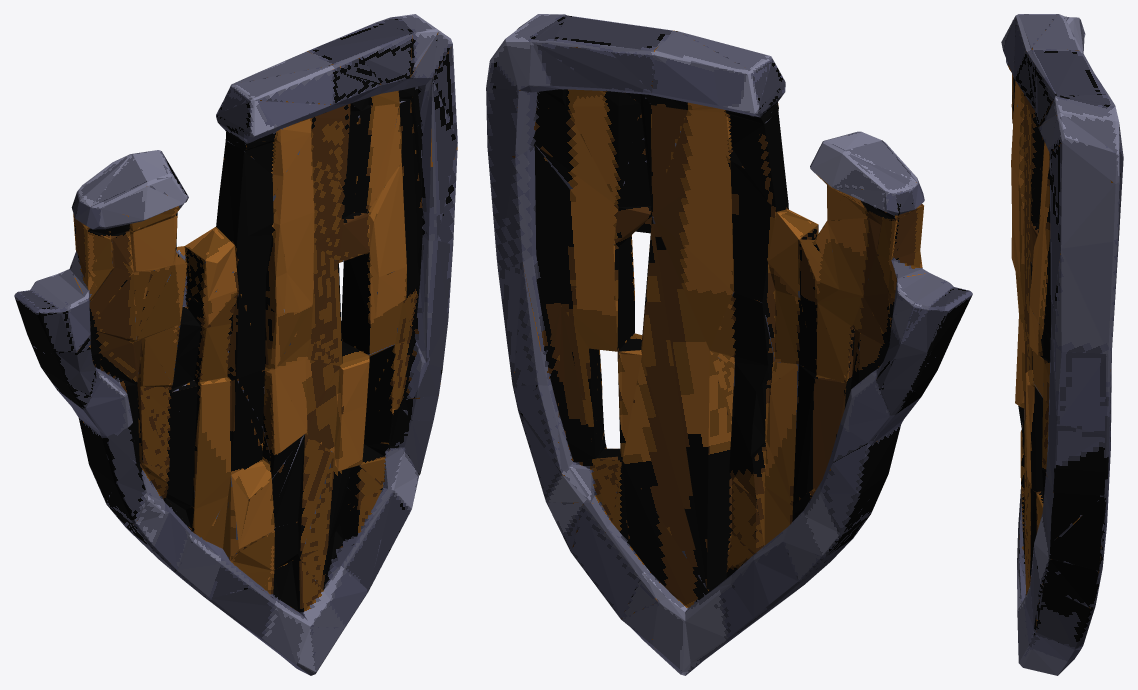
The picture shows the model from 3 angles, left to right: view 1: azimuth 30°, elevation 25°; view 2: azimuth 150°, elevation 25°; view 3: azimuth 270°, elevation 25°; orthographic projection. The views are drawn at different scales.
Parts seen in each view (by area): view 1: OBJ0cb; view 2: OBJ0cb; view 3: OBJ0cb.
Boxes of the visible parts, <box> form: OBJ0cb: <box>14,14,457,675</box>; OBJ0cb: <box>486,14,972,675</box>; OBJ0cb: <box>1001,14,1123,675</box>.
Size of the model in its own units: 0.2764 by 0.3704 by 0.0645.
1 material, 1 textured.
